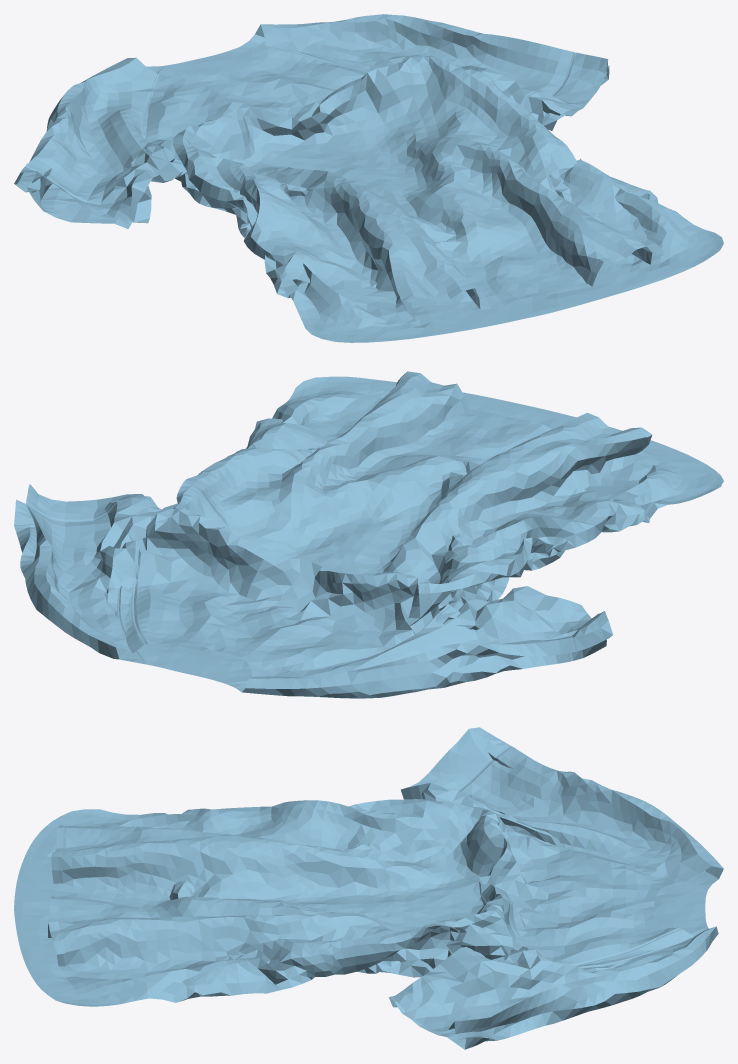
File: frame_02.glb
The picture shows the model from 3 angles, top to bottom: view 1: azimuth 30°, elevation 25°; view 2: azimuth 150°, elevation 25°; view 3: azimuth 270°, elevation 25°; orthographic projection. The views are drawn at different scales.
Visible parts, largest first — view 1: frame_02.obj; view 2: frame_02.obj; view 3: frame_02.obj.
Part boxes in pixels (x1,y1,x2,y2): frame_02.obj: [14, 14, 723, 342]; frame_02.obj: [14, 371, 723, 698]; frame_02.obj: [14, 727, 723, 1049].
Size of the model in its own units: 1.73 by 0.1731 by 1.83.
